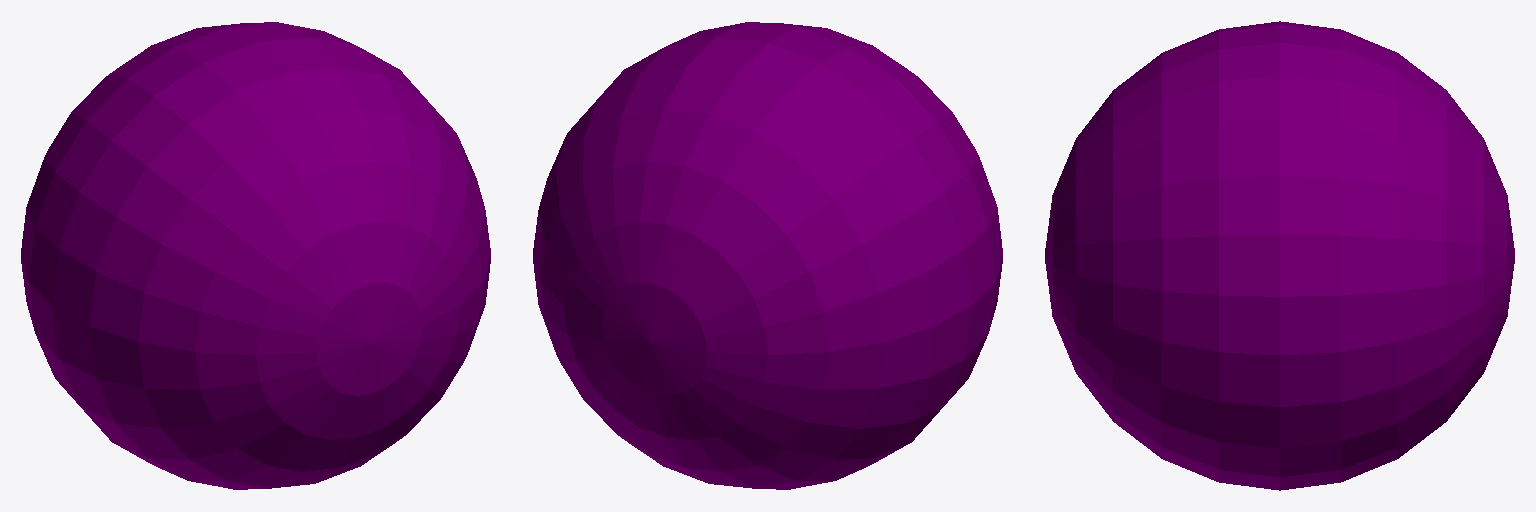
3 views of the same model, side by side, from view 1: azimuth 30°, elevation 25°; view 2: azimuth 150°, elevation 25°; view 3: azimuth 270°, elevation 25° (orthographic).
Visible parts, largest first — view 1: solid1_4, top__4_1_5; view 2: solid1_4, top__4_1_5; view 3: solid1_4, top__4_1_5.
Part boxes in pixels (bbox=[...]): solid1_4: bbox=[21, 23, 490, 488]; top__4_1_5: bbox=[156, 22, 355, 107]; solid1_4: bbox=[533, 23, 1002, 488]; top__4_1_5: bbox=[668, 22, 867, 107]; solid1_4: bbox=[1045, 21, 1514, 490]; top__4_1_5: bbox=[1180, 22, 1379, 107].
Size of the model in its own units: 2.25 by 2.25 by 2.25.